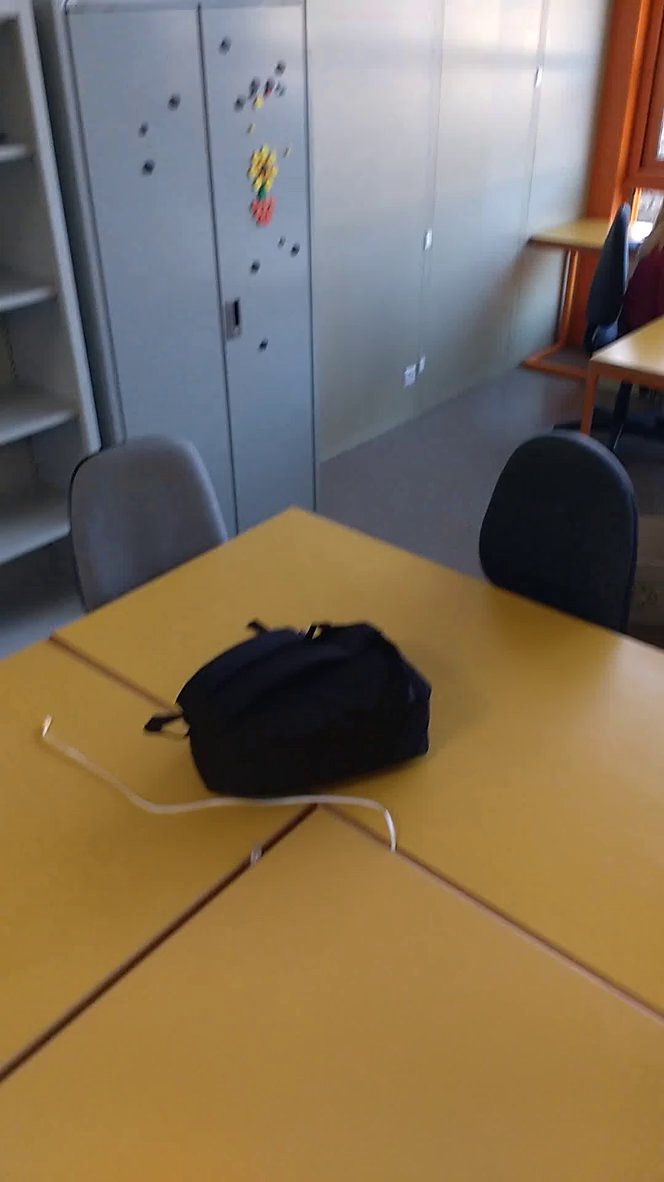bag: (136, 603, 464, 811)
chair: (460, 424, 653, 670), (62, 430, 242, 614)
